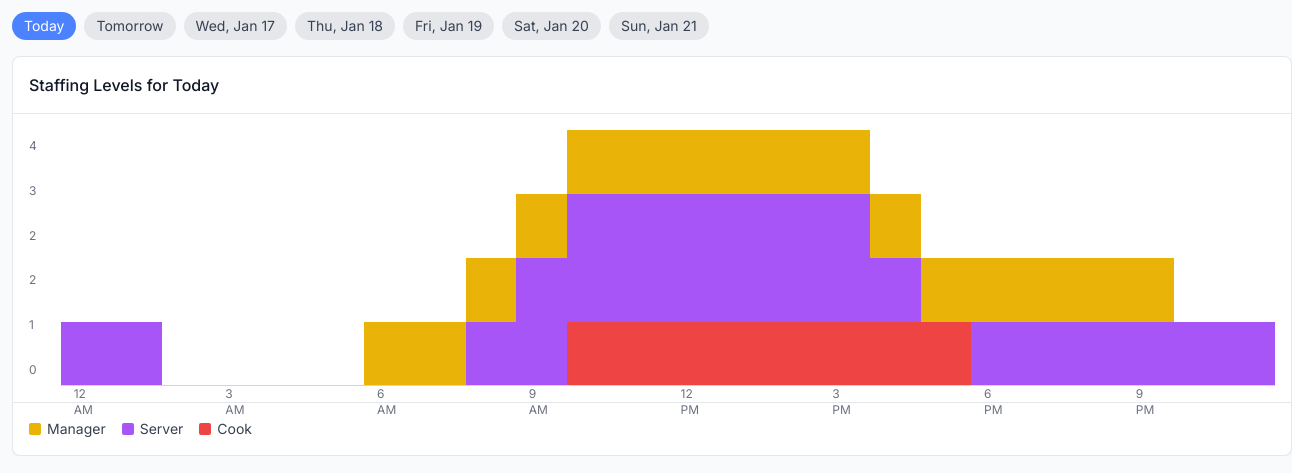
Test: StaffingLevelsView Component › Day Selection › should switch to tomorrow when tomorrow button is clicked
Click the button "Tomorrow" at (130, 26), box [84,12,176,40]
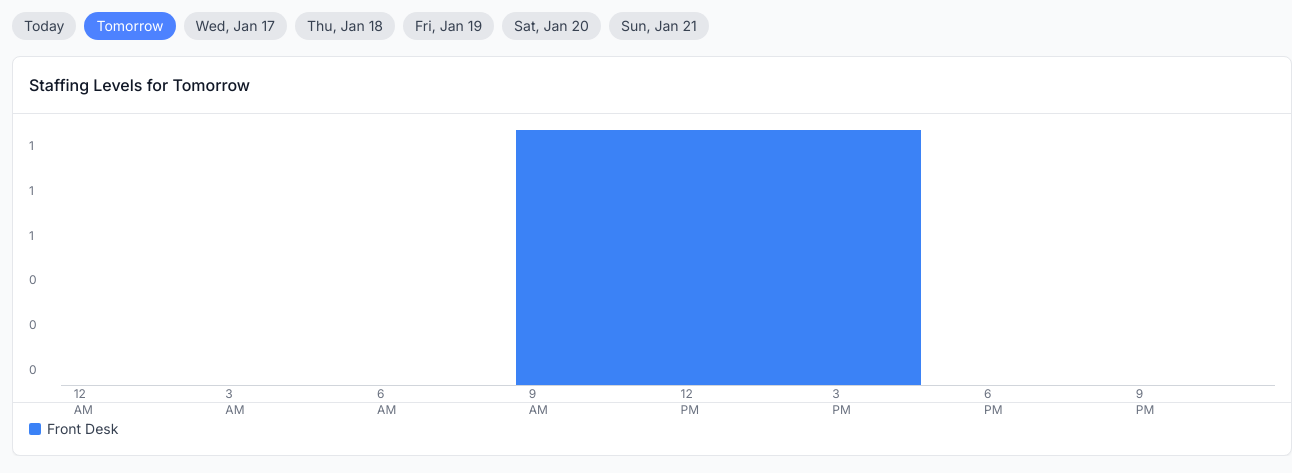
Check: the heading "Staffing Levels for Tomorrow" is shown, box [29,75,250,95]
